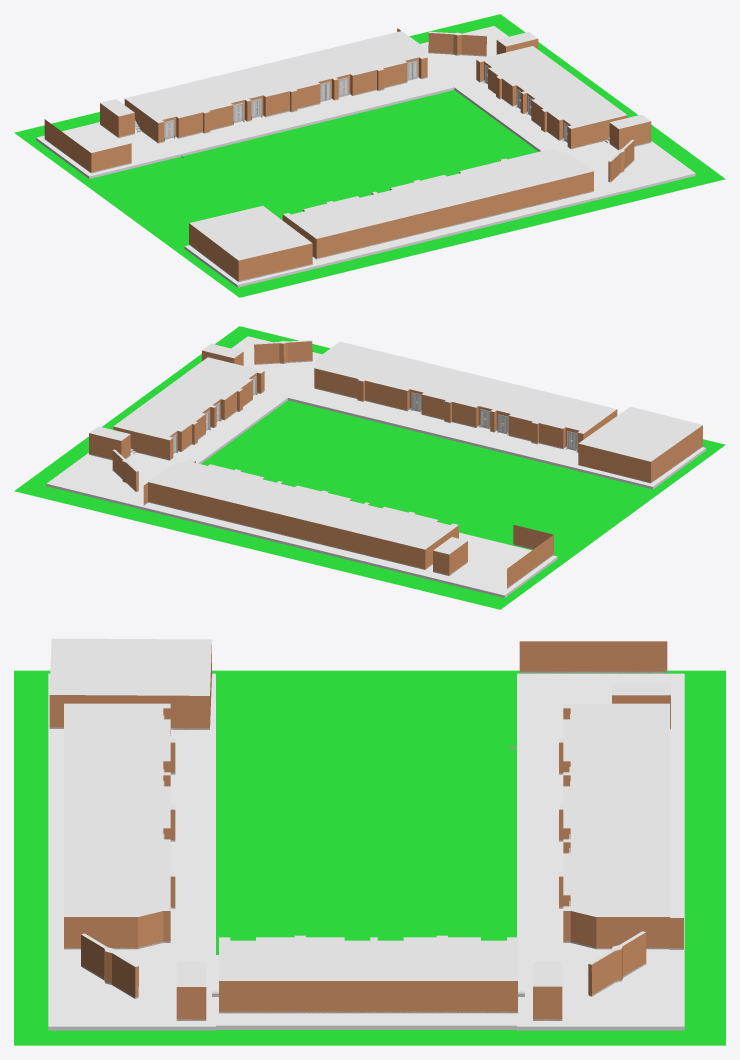
File: fp grafkom warna.gltf
3 renders of one model, top to bottom at view 1: azimuth 30°, elevation 25°; view 2: azimuth 150°, elevation 25°; view 3: azimuth 270°, elevation 25°, orthographic. The views are drawn at different scales.
Visible parts, largest first — view 1: Plane, Cube, Ceiling, Ceiling.002, Room, Ceiling.001, Room.001, Ceiling.008, Room.010, Room.002, Room.007, Room.004 (+3 smaller); view 2: Plane, Cube, Ceiling, Ceiling.002, Room.001, Ceiling.001, Room, Ceiling.008, Room.010, Room.002, Room.007, Room.011 (+3 smaller); view 3: Plane, Cube, Ceiling, Ceiling.002, Ceiling.001, Room.002, Ceiling.008, Room.007, Room, Room.001, Room.010, Room.004 (+7 smaller).
Part boxes in pixels (left/top/right/bottom): Plane: left=14, top=14, right=725, bottom=297; Cube: left=36, top=26, right=695, bottom=287; Ceiling: left=283, top=148, right=593, bottom=238; Ceiling.002: left=125, top=31, right=426, bottom=122; Room: left=282, top=160, right=593, bottom=259; Ceiling.001: left=477, top=46, right=627, bottom=128; Room.001: left=124, top=57, right=427, bottom=143; Ceiling.008: left=189, top=206, right=311, bottom=260; Room.010: left=189, top=223, right=312, bottom=281; Room.002: left=476, top=60, right=627, bottom=148; Room.007: left=44, top=119, right=131, bottom=172; Room.004: left=428, top=33, right=486, bottom=56; Plane: left=14, top=326, right=725, bottom=609; Cube: left=46, top=336, right=706, bottom=597; Ceiling: left=314, top=341, right=616, bottom=433; Ceiling.002: left=148, top=459, right=458, bottom=549; Room.001: left=148, top=461, right=458, bottom=569; Ceiling.001: left=113, top=357, right=263, bottom=440; Room: left=314, top=368, right=617, bottom=452; Ceiling.008: left=578, top=406, right=702, bottom=461; Room.010: left=578, top=425, right=702, bottom=482; Room.002: left=113, top=371, right=264, bottom=459; Room.007: left=507, top=525, right=553, bottom=587; Room.011: left=254, top=341, right=312, bottom=364; Plane: left=14, top=670, right=725, bottom=1045; Cube: left=48, top=673, right=684, bottom=1030; Ceiling: left=64, top=703, right=175, bottom=916; Ceiling.002: left=559, top=703, right=669, bottom=916; Ceiling.001: left=219, top=935, right=517, bottom=980; Room.002: left=219, top=981, right=517, bottom=1013; Ceiling.008: left=49, top=638, right=211, bottom=695; Room.007: left=519, top=641, right=667, bottom=673; Room: left=64, top=704, right=175, bottom=949; Room.001: left=559, top=708, right=669, bottom=949; Room.010: left=49, top=645, right=211, bottom=729; Room.004: left=588, top=932, right=646, bottom=996.
Bounding box in the file's own units: 60.09 × 3.35 × 48.25.
